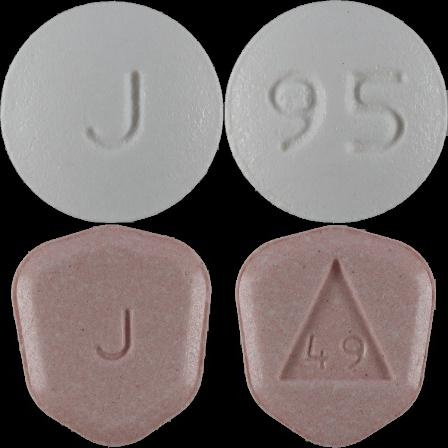31722-776: (0, 0, 224, 224)
